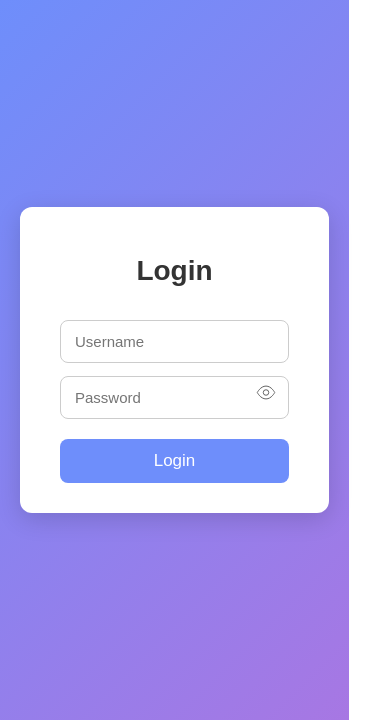
Test case: Login Component Integration Tests › TC3: Hien thi loi khi dang nhap that bai
Type "wrong" into the field with test id "username-input". click: (174, 341)
box: [60,320,289,363]
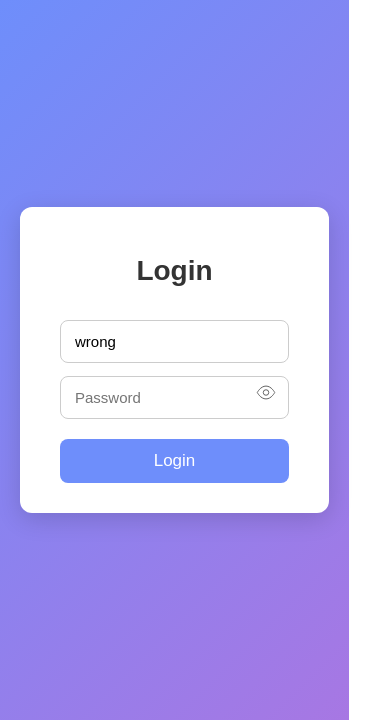
Type "T123456" into the password field with test id "password-input". click: (174, 397)
box: [60,376,289,419]
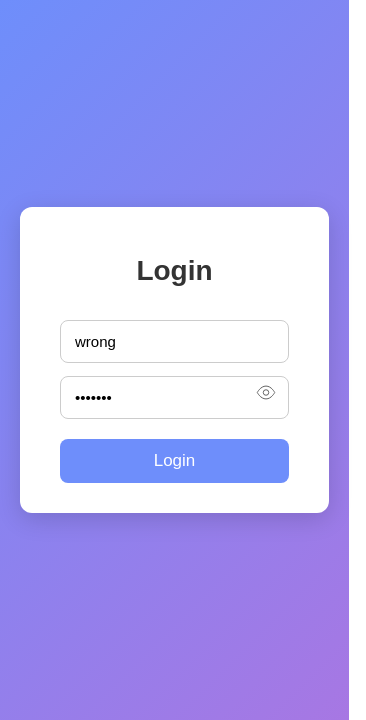
Click the button with test id "login-button". click: (174, 461)
box: [60,439,289,483]
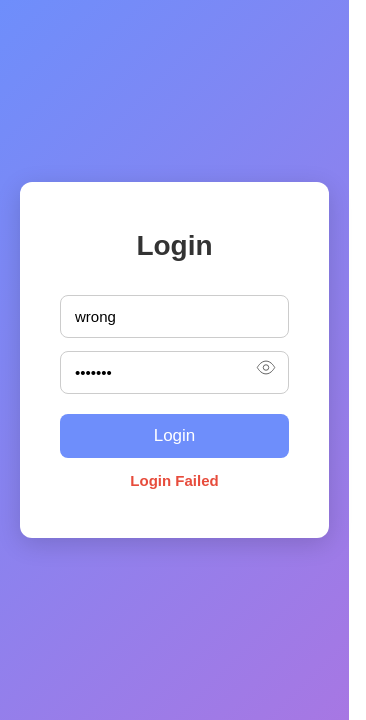
Expected: the text with test id "login-message" reads "Login Failed", [130,472,219,489]
